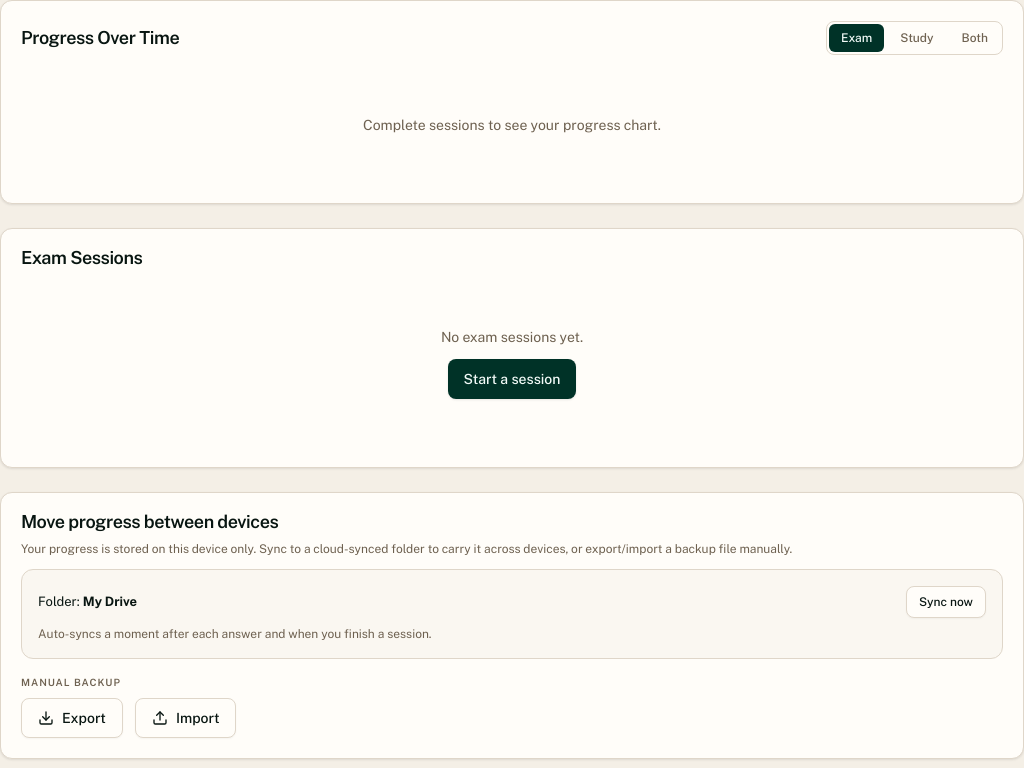
Test: History — connected-card copy › shows an actionable message when export fails
Step 1. Click the button "Export" → [72, 718], box x1=21 y1=698 x2=123 y2=738
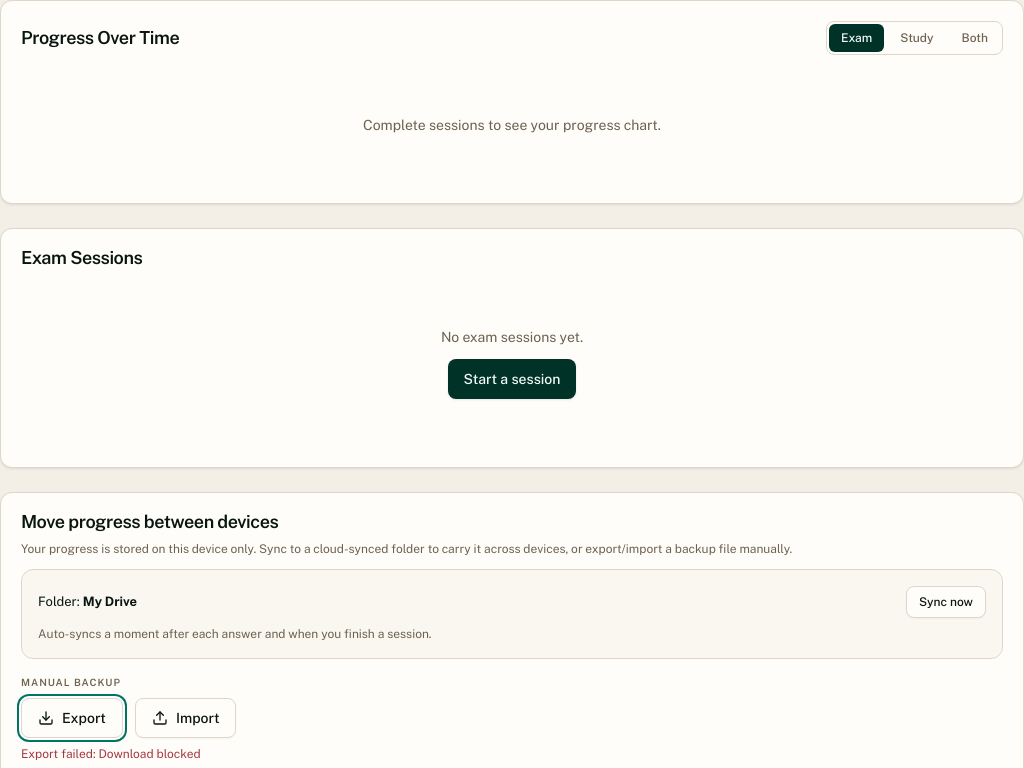
Now the text "Export failed: Download blocked" is shown, box x1=21 y1=747 x2=201 y2=761
